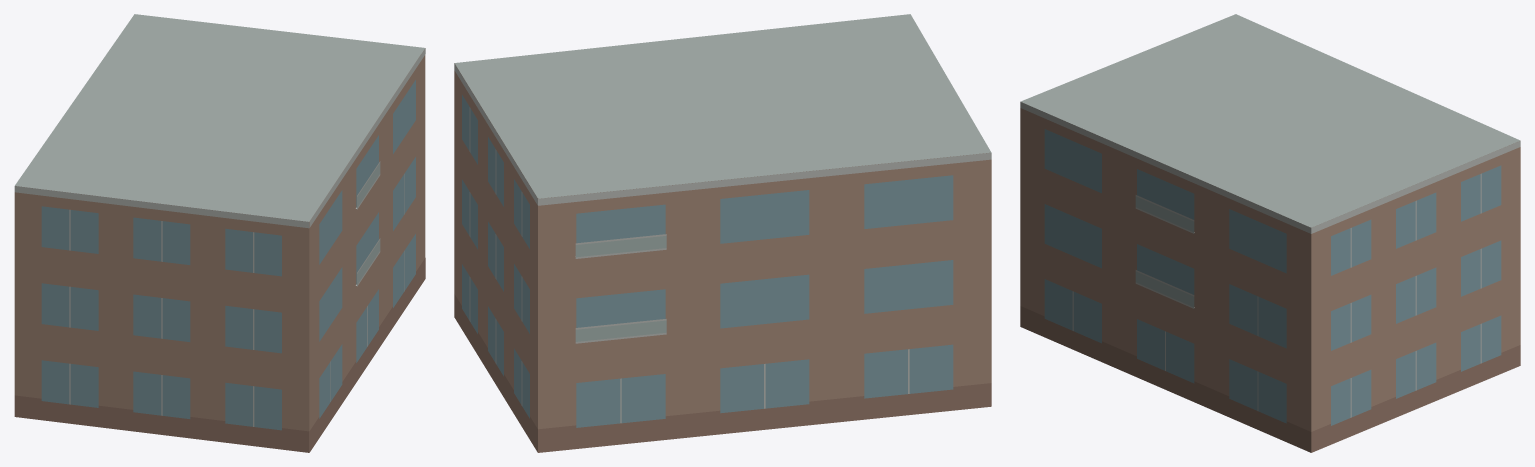
Rendered from survey-upis-32750511.glb.
3 renders of one model, left to right at view 1: azimuth 30°, elevation 25°; view 2: azimuth 150°, elevation 25°; view 3: azimuth 270°, elevation 25°, orthographic. The views are drawn at different scales.
Parts seen in each view (by area): view 1: survey-upis-32750511.tmp; view 2: survey-upis-32750511.tmp; view 3: survey-upis-32750511.tmp.
Part boxes in pixels (box(x1,y1,x2,y2)): survey-upis-32750511.tmp: box(14, 14, 425, 452); survey-upis-32750511.tmp: box(454, 14, 991, 452); survey-upis-32750511.tmp: box(1020, 14, 1520, 452).
Bounding box in the file's own units: 17.93 × 8.8 × 17.74.
